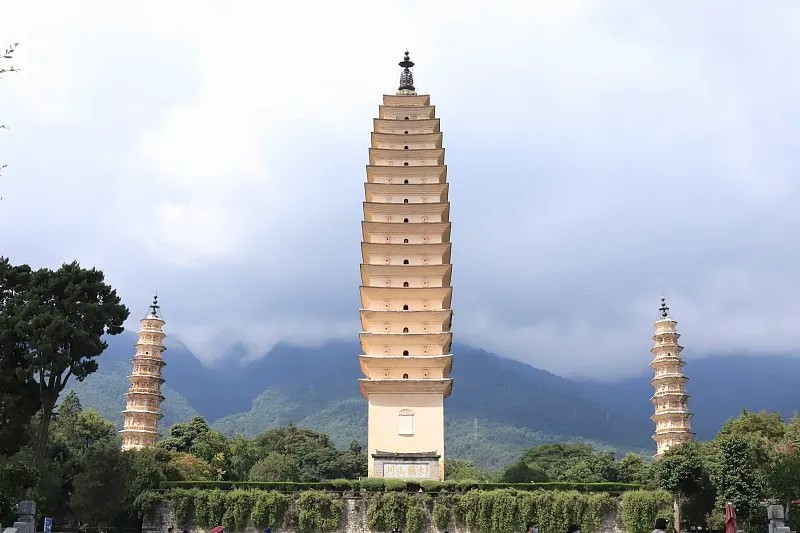ThreePagoda: (358, 49, 453, 480)
